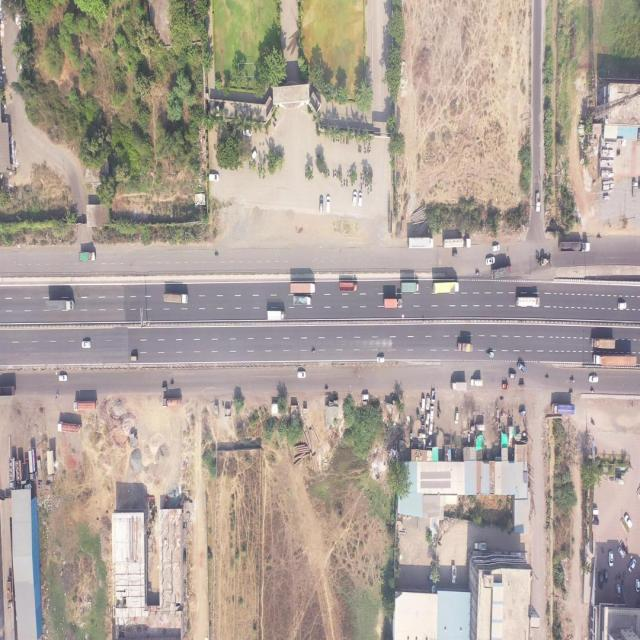3W: (517, 407, 527, 417), (501, 382, 509, 391), (129, 354, 139, 361), (162, 385, 168, 392), (518, 383, 526, 388), (452, 251, 458, 257)
Cars: (624, 509, 633, 529), (617, 543, 626, 559), (627, 558, 636, 573), (242, 126, 253, 138), (318, 195, 324, 214), (598, 571, 604, 590), (588, 374, 599, 384), (208, 172, 219, 181), (250, 147, 257, 161), (608, 551, 614, 567), (326, 195, 331, 214), (454, 409, 460, 424), (485, 256, 495, 265), (81, 340, 91, 349), (617, 301, 627, 310), (58, 373, 68, 382), (634, 578, 640, 592), (297, 370, 306, 379), (508, 370, 517, 379), (352, 191, 357, 207), (358, 191, 363, 207), (616, 582, 621, 597), (362, 392, 369, 401), (491, 245, 500, 252), (376, 356, 385, 363), (426, 395, 430, 410), (421, 397, 425, 411), (431, 406, 434, 422), (426, 413, 430, 425)
LCV: (473, 540, 488, 552), (451, 563, 457, 585), (535, 192, 541, 214), (471, 379, 484, 387), (518, 362, 526, 374)
M2W: (486, 350, 494, 359), (590, 418, 596, 427), (311, 348, 317, 354), (169, 380, 175, 386), (570, 377, 575, 384), (568, 388, 573, 395), (360, 171, 363, 181), (545, 375, 551, 380), (324, 385, 329, 391), (590, 388, 596, 393), (597, 234, 601, 241), (367, 187, 370, 196), (359, 144, 362, 153), (327, 168, 330, 177), (346, 170, 349, 178), (342, 137, 345, 145), (260, 163, 263, 171), (476, 270, 480, 276), (215, 252, 219, 258), (332, 168, 334, 178), (344, 177, 346, 187), (367, 145, 369, 154), (364, 146, 366, 155), (336, 170, 338, 178), (340, 181, 342, 188), (346, 181, 348, 188), (338, 138, 340, 144)
MAV: (593, 352, 639, 367), (442, 237, 472, 249), (560, 241, 590, 252), (44, 300, 74, 310), (433, 283, 459, 293)
Truck: (57, 419, 82, 435), (550, 402, 576, 416), (408, 237, 434, 250), (590, 337, 616, 350), (163, 291, 188, 304), (74, 399, 98, 412), (492, 266, 512, 281), (290, 282, 315, 294), (517, 296, 540, 307), (400, 282, 420, 294), (162, 397, 181, 409), (383, 296, 402, 308), (339, 280, 358, 292), (78, 250, 95, 263), (266, 309, 285, 320), (457, 340, 473, 353), (292, 295, 312, 305), (450, 380, 467, 391), (0, 385, 15, 397)
